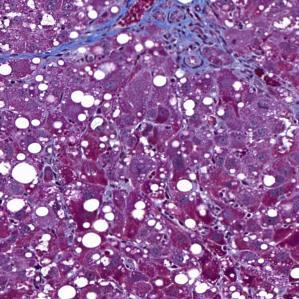fibrosis: (122, 4, 225, 75)
